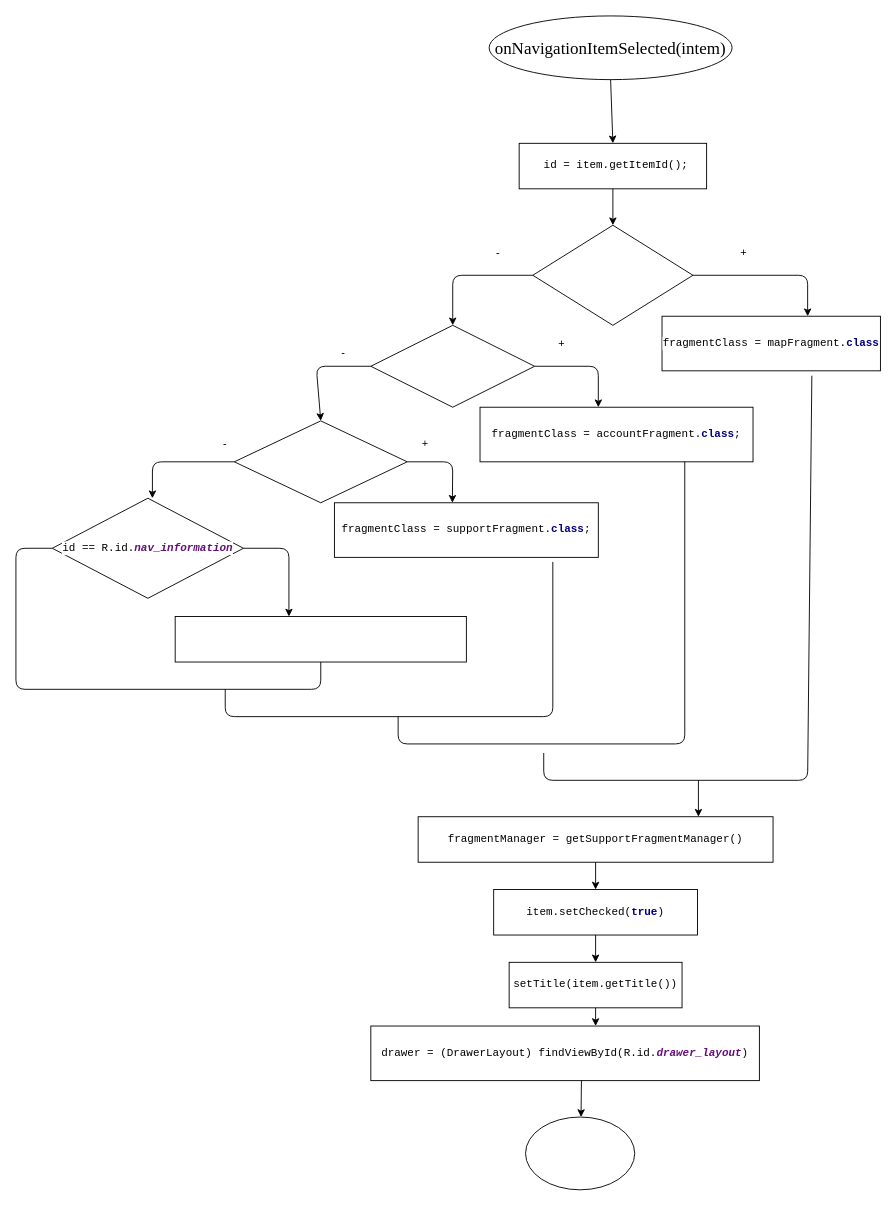
Some shapes in this 896 by 1206 pixel diagram are drawn without their labels. Each missing label, with the box of its shape:
fragmentClass = informationFragment. class ;: (174, 616, 466, 662)
id == R.id. nav_account: (370, 324, 535, 407)
id == R.id. nav_map: (532, 224, 693, 325)
id == R.id. nav_support: (233, 420, 407, 503)
Выход: (525, 1116, 635, 1190)
